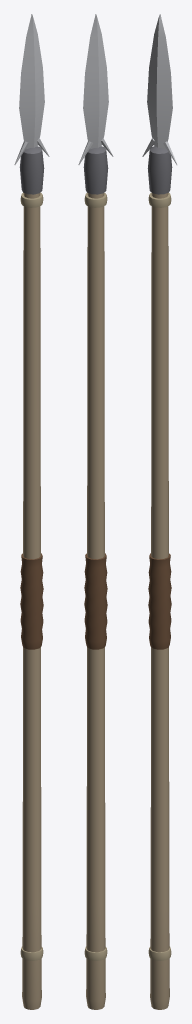
Rendered from hunting_spear.glb.
3 views of the same model, side by side, from view 1: azimuth 30°, elevation 25°; view 2: azimuth 210°, elevation 25°; view 3: azimuth 330°, elevation 25° (orthographic).
Visible parts, largest first — view 1: hunting_spear; view 2: hunting_spear; view 3: hunting_spear.
Part boxes in pixels (box(x1,y1,x2,y2)): hunting_spear: box(14, 14, 49, 1009); hunting_spear: box(78, 14, 113, 1009); hunting_spear: box(142, 14, 177, 1009).
Bounding box in the file's own units: 0.0813 × 2.2 × 0.047.
